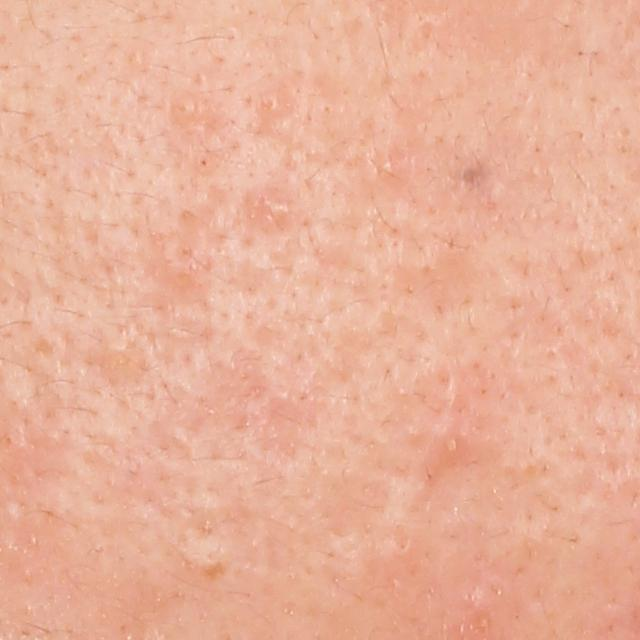comedo: (454, 155, 487, 191), (171, 94, 198, 125), (379, 154, 402, 181), (262, 95, 282, 113)
